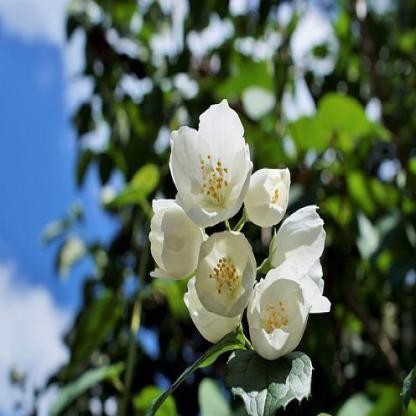Melati: (124, 161, 365, 344), (199, 230, 327, 357), (166, 102, 260, 223)
